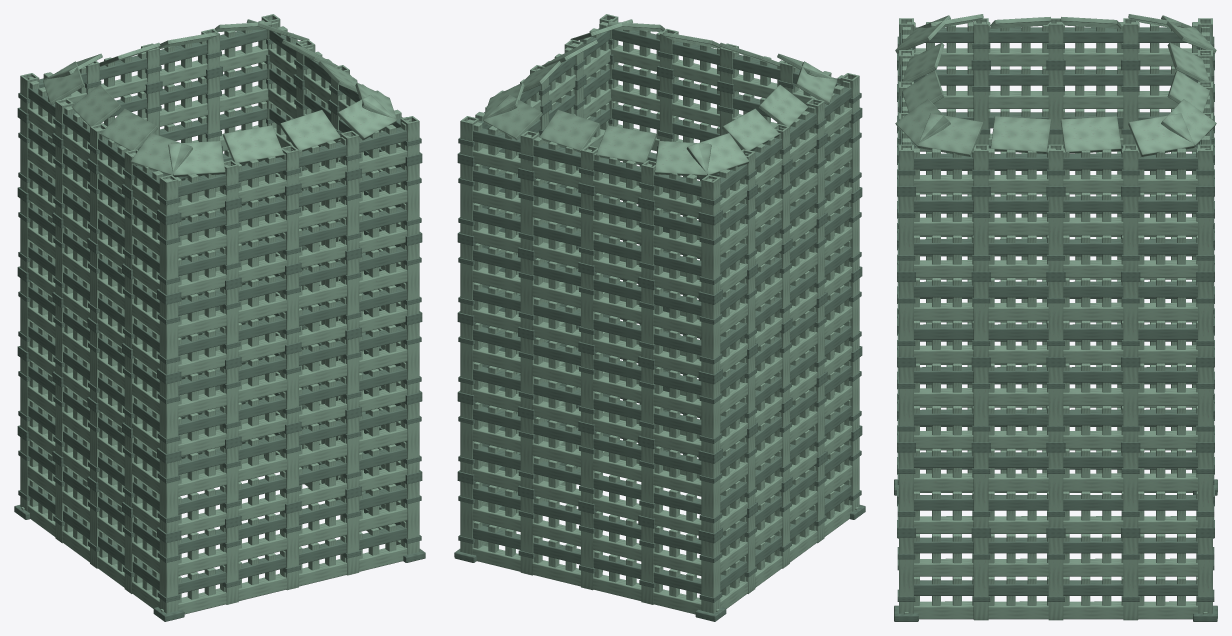
The picture shows the model from 3 angles, left to right: view 1: azimuth 30°, elevation 25°; view 2: azimuth 150°, elevation 25°; view 3: azimuth 270°, elevation 25°; orthographic projection. The views are drawn at different scales.
Visible parts, largest first — view 1: Crown alloy petal 0-1, Crown alloy petal 0-0, Crown alloy petal 0-2, Crown alloy petal 3-3, Crown alloy petal 3-2, Crown alloy petal 0-3, Tier 0 side 0 post 0, Tier 3 side 0 post 0, Tier 1 side 0 post 0, Tier 2 side 0 post 0, Tier 4 side 0 post 0, Crown alloy petal 3-1 (+127 smaller); view 2: Crown alloy petal 2-2, Crown alloy petal 2-3, Crown alloy petal 2-1, Crown alloy petal 3-0, Crown alloy petal 3-1, Crown alloy petal 2-0, Tier 0 side 3 post 0, Tier 3 side 3 post 0, Tier 2 side 3 post 0, Tier 4 side 3 post 0, Tier 1 side 3 post 0, Crown alloy petal 3-2 (+127 smaller); view 3: Crown alloy petal 1-2, Crown alloy petal 1-1, Crown alloy petal 1-3, Crown alloy petal 1-0, Crown alloy petal 0-3, Crown alloy petal 2-0, Tier 0 side 1 post 1, Tier 0 side 1 post 3, Tier 0 side 1 post 2, Tier 1 side 1 post 1, Tier 1 side 1 post 3, Tier 2 side 1 post 1 (+142 smaller).
Part boxes in pixels (<box>): Crown alloy petal 0-1: <box>223,125,283,163</box>; Crown alloy petal 0-0: <box>168,141,225,176</box>; Crown alloy petal 0-2: <box>279,110,340,151</box>; Crown alloy petal 3-3: <box>130,133,192,175</box>; Crown alloy petal 3-2: <box>100,108,157,150</box>; Crown alloy petal 0-3: <box>337,95,396,140</box>; Tier 0 side 0 post 0: <box>159,539,178,613</box>; Tier 3 side 0 post 0: <box>159,301,178,374</box>; Tier 1 side 0 post 0: <box>159,460,178,533</box>; Tier 2 side 0 post 0: <box>159,380,178,453</box>; Tier 4 side 0 post 0: <box>159,221,178,294</box>; Crown alloy petal 3-1: <box>72,85,121,126</box>; Crown alloy petal 2-2: <box>596,125,656,164</box>; Crown alloy petal 2-3: <box>654,141,711,176</box>; Crown alloy petal 2-1: <box>539,110,600,152</box>; Crown alloy petal 3-0: <box>686,133,749,175</box>; Crown alloy petal 3-1: <box>722,108,779,150</box>; Crown alloy petal 2-0: <box>483,95,542,140</box>; Tier 0 side 3 post 0: <box>701,539,720,613</box>; Tier 3 side 3 post 0: <box>701,301,720,374</box>; Tier 2 side 3 post 0: <box>701,380,720,453</box>; Tier 4 side 3 post 0: <box>701,221,720,294</box>; Tier 1 side 3 post 0: <box>701,460,720,533</box>; Crown alloy petal 3-2: <box>758,85,808,126</box>; Crown alloy petal 1-2: <box>1060,116,1121,153</box>; Crown alloy petal 1-1: <box>990,116,1051,153</box>; Crown alloy petal 1-3: <box>1128,113,1194,156</box>; Crown alloy petal 1-0: <box>917,113,983,156</box>; Crown alloy petal 0-3: <box>895,99,950,147</box>; Crown alloy petal 2-0: <box>1161,99,1216,147</box>; Tier 0 side 1 post 1: <box>973,538,988,620</box>; Tier 0 side 1 post 3: <box>1123,538,1138,620</box>; Tier 0 side 1 post 2: <box>1048,538,1063,620</box>; Tier 1 side 1 post 1: <box>973,452,988,527</box>; Tier 1 side 1 post 3: <box>1123,452,1138,527</box>; Tier 2 side 1 post 1: <box>973,367,988,442</box>.
Size of the model in its own units: 1.95 by 3.23 by 1.95.
2 materials, 2 textured.
